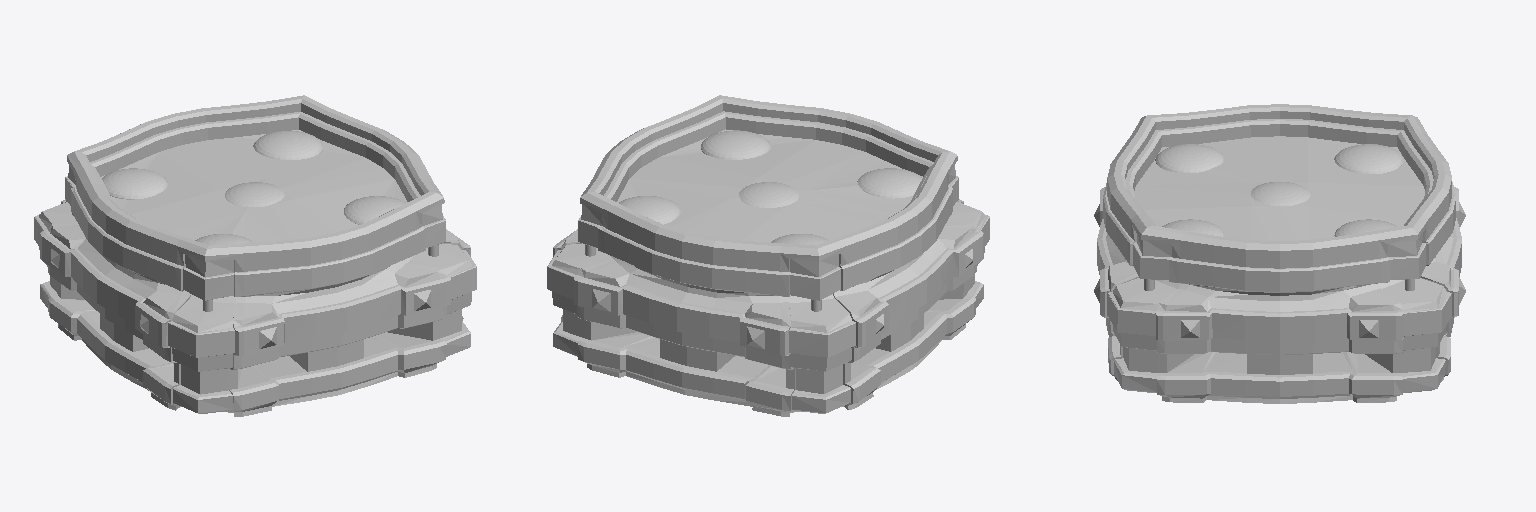
Rendered from OS_Silo_Base.obj.
The picture shows the model from 3 angles: view 1: azimuth 30°, elevation 25°; view 2: azimuth 150°, elevation 25°; view 3: azimuth 270°, elevation 25°; orthographic projection.
Parts seen in each view (by area): view 1: Base_Cylinder_Cylinder.003; view 2: Base_Cylinder_Cylinder.003; view 3: Base_Cylinder_Cylinder.003.
Part boxes in pixels (bbox=[...]): Base_Cylinder_Cylinder.003: bbox=[34, 95, 476, 416]; Base_Cylinder_Cylinder.003: bbox=[547, 95, 989, 416]; Base_Cylinder_Cylinder.003: bbox=[1094, 104, 1465, 403].
Size of the model in its own units: 2.08 by 1.04 by 2.09.